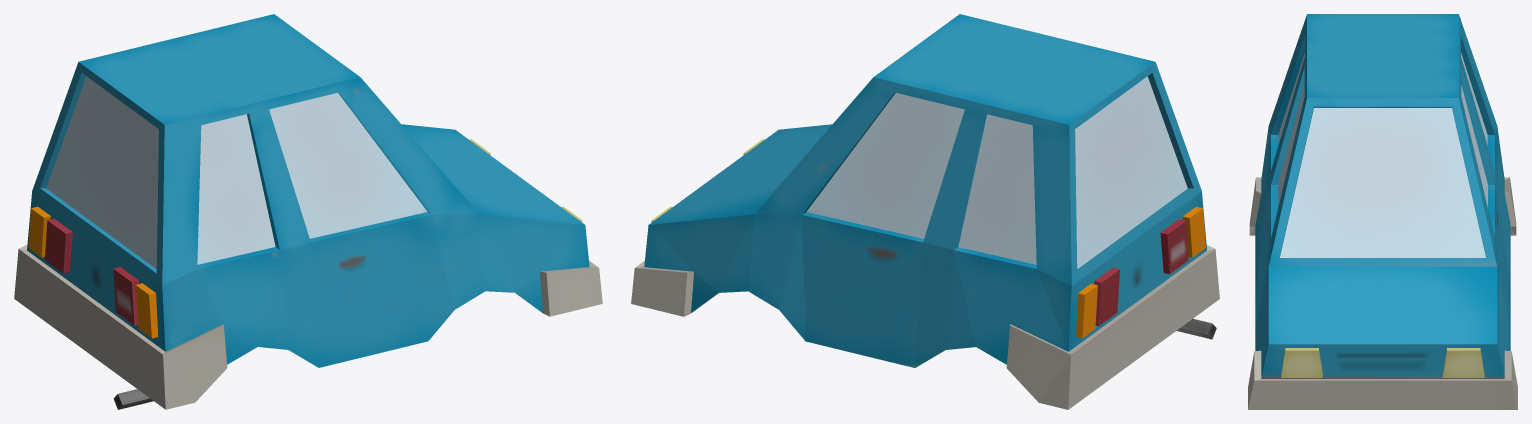
Rendered from co_CarB_01.fbx.
The picture shows the model from 3 angles, left to right: view 1: azimuth 30°, elevation 25°; view 2: azimuth 150°, elevation 25°; view 3: azimuth 270°, elevation 25°; orthographic projection. The views are drawn at different scales.
Visible parts, largest first — view 1: CarB_01; view 2: CarB_01; view 3: CarB_01.
Part boxes in pixels (x1=…): CarB_01: x1=14, y1=14, x2=602, y2=409; CarB_01: x1=631, y1=14, x2=1219, y2=409; CarB_01: x1=1248, y1=14, x2=1517, y2=409.
Size of the model in its own units: 389 by 219 by 226.
